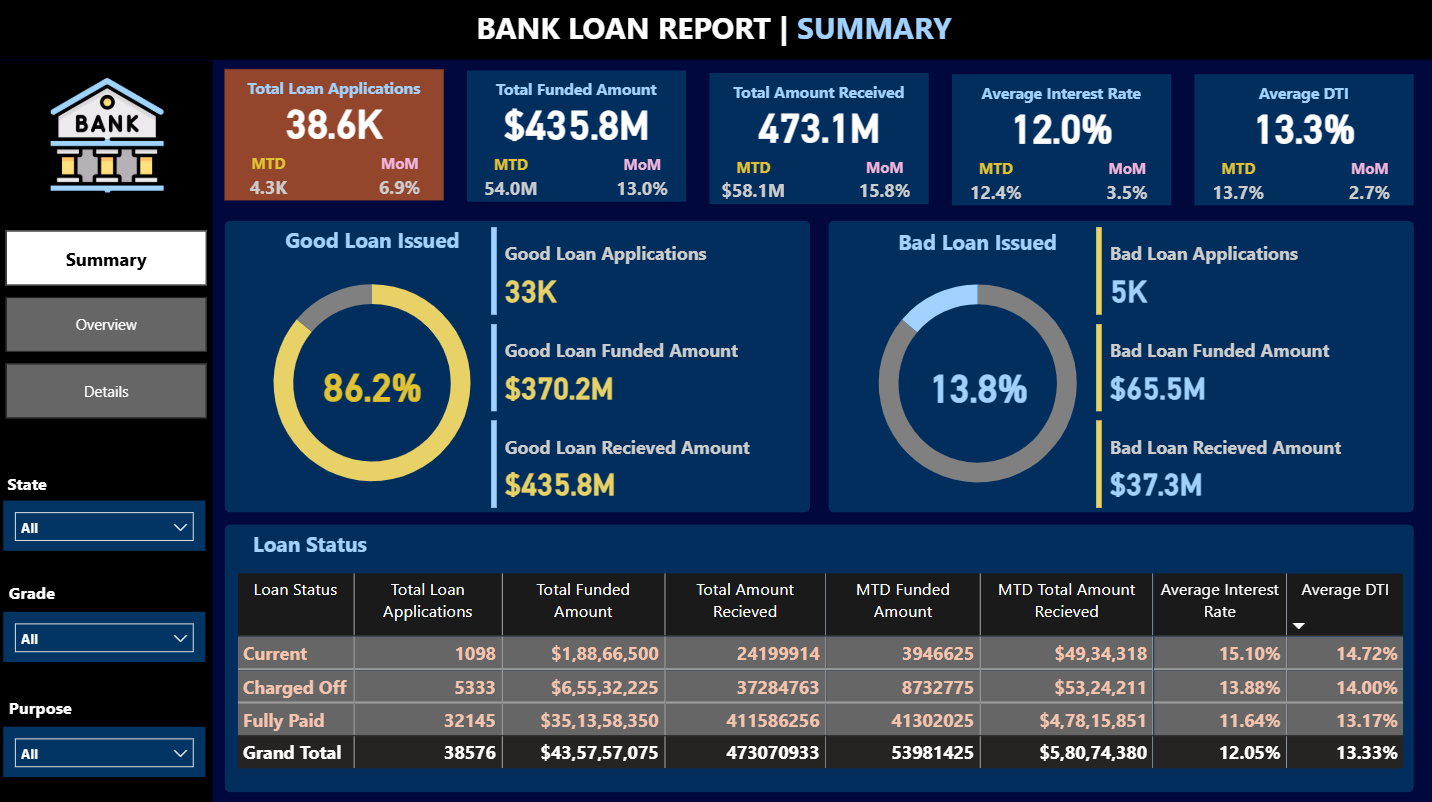

What the dashboard file says about the page in this screenshot:
{"tool":"powerbi","page":{"name":"Summary","canvas":[1280,720],"ordinal":0},"visuals":[{"type":"shape","box":[0,55.5,192,664.7],"z":0},{"type":"shape","box":[202.7,63.9,195.4,117],"z":0,"group":"g1"},{"type":"shape","box":[419.1,64.1,195.4,117],"z":0,"group":"g2"},{"type":"shape","box":[634.8,66.6,195.4,117],"z":0,"group":"g3"},{"type":"shape","box":[850.5,67.9,195.4,117],"z":0,"group":"g4"},{"type":"shape","box":[1066.2,67.9,195.4,117],"z":0,"group":"g5"},{"type":"shape","box":[0,0,1280,55],"z":1000},{"type":"card","fields":{"Values":["bank_loan_data.Total Loan Applications"]},"box":[202.7,88,195.4,43.4],"z":1000,"group":"g1"},{"type":"card","fields":{"Values":["bank_loan_data.Total Funded Amount"]},"box":[419.1,88.2,195.4,43.4],"z":1000,"group":"g2"},{"type":"card","fields":{"Values":["bank_loan_data.Total Amount Recieved"]},"box":[634.8,90.7,195.4,43.4],"z":1000,"group":"g3"},{"type":"card","fields":{"Values":["bank_loan_data.Average Interest Rate"]},"box":[850.5,92,195.4,43.4],"z":1000,"group":"g4"},{"type":"card","fields":{"Values":["bank_loan_data.Average DTI"]},"box":[1066.2,92,195.4,43.4],"z":1000,"group":"g5"},{"type":"textbox","box":[208.7,66.3,183.4,31.4],"z":2000,"group":"g1"},{"type":"textbox","box":[425.1,66.5,183.4,31.4],"z":2000,"group":"g2"},{"type":"textbox","box":[640.8,69,183.4,31.4],"z":2000,"group":"g3"},{"type":"textbox","box":[856.5,70.3,183.4,31.4],"z":2000,"group":"g4"},{"type":"textbox","box":[1072.2,70.3,183.4,31.4],"z":2000,"group":"g5"},{"type":"shape","box":[202.5,198.6,521.6,260.2],"z":2000},{"type":"card","title":"MTD","fields":{"Values":["bank_loan_data.MTD Loan Applications"]},"box":[202.7,138.7,78.4,47.1],"z":3000,"group":"g1"},{"type":"card","title":"MTD","fields":{"Values":["bank_loan_data.MTD Funded Amount"]},"box":[419.1,138.9,78.4,47.1],"z":3000,"group":"g2"},{"type":"card","title":"MTD","fields":{"Values":["bank_loan_data.MTD Total Amount Recieved"]},"box":[634.8,141.4,78.4,47.1],"z":3000,"group":"g3"},{"type":"card","title":"MTD","fields":{"Values":["bank_loan_data.MTD Average Int. Rate"]},"box":[850.5,142.7,78.4,47.1],"z":3000,"group":"g4"},{"type":"card","title":"MTD","fields":{"Values":["bank_loan_data.MTD Average DTI"]},"box":[1066.2,142.7,78.4,47.1],"z":3000,"group":"g5"},{"type":"card","fields":{"Values":["bank_loan_data.Good Loan %"]},"box":[279.4,322.9,110.2,43.6],"z":3000},{"type":"card","title":"MoM","fields":{"Values":["bank_loan_data.MoM Loan Applications"]},"box":[319.7,138.7,78.4,47.1],"z":4000,"group":"g1"},{"type":"card","title":"MoM","fields":{"Values":["bank_loan_data.MoM Total Funded Amount"]},"box":[536.1,138.9,78.4,47.1],"z":4000,"group":"g2"},{"type":"card","title":"MoM","fields":{"Values":["bank_loan_data.MoM Total Recieved Amount"]},"box":[751.8,141.4,78.4,47.1],"z":4000,"group":"g3"},{"type":"card","title":"MoM","fields":{"Values":["bank_loan_data.MoM Avg Int. Rate"]},"box":[967.5,142.7,78.4,47.1],"z":4000,"group":"g4"},{"type":"card","title":"MoM","fields":{"Values":["bank_loan_data.MoM Average DTI"]},"box":[1183.2,142.7,78.4,47.1],"z":4000,"group":"g5"},{"type":"textbox","box":[242.2,198.6,183.3,39.7],"z":4000},{"type":"textbox","box":[422.3,3.6,437.9,48.3],"z":5000},{"type":"group","id":"g1","title":"Group 2","box":[202.7,63.9,195.4,121.9],"z":5004,"group":"g6"},{"type":"group","id":"g2","title":"Group 2","box":[419.1,64.1,195.4,121.9],"z":5004,"group":"g7"},{"type":"group","id":"g3","title":"Group 2","box":[634.8,66.6,195.4,121.9],"z":5004,"group":"g8"},{"type":"group","id":"g4","title":"Group 2","box":[850.5,67.9,195.4,121.9],"z":5004,"group":"g9"},{"type":"group","id":"g5","title":"Group 2","box":[1066.2,67.9,195.4,121.9],"z":5004,"group":"g10"},{"type":"group","id":"g6","title":"Group 1","box":[202.7,63.9,195.4,121.9],"z":6000},{"type":"group","id":"g7","title":"Group 1","box":[419.1,64.1,194.8,121.7],"z":7000},{"type":"donutChart","fields":{"Category":["bank_loan_data.Good vs Bad Loan"],"Y":["bank_loan_data.Total Loan Applications"]},"box":[208.7,228.1,249.8,229.3],"z":8000},{"type":"group","id":"g8","title":"Group 1","box":[634.8,66.6,194.8,121.7],"z":9000},{"type":"group","id":"g9","title":"Group 1","box":[850.5,67.9,194.8,121.7],"z":10000},{"type":"group","id":"g10","title":"Group 1","box":[1066.2,67.9,194.8,121.7],"z":11000},{"type":"shape","box":[740.7,198.6,521.6,260.2],"z":12000},{"type":"cardVisual","fields":{"Data":["bank_loan_data.Good Loan Applications","bank_loan_data.Good Loan Funded Amount","bank_loan_data.Good Loan Recieved Amount"]},"box":[435.6,199.1,288.4,260.6],"z":13000},{"type":"donutChart","fields":{"Category":["bank_loan_data.Good vs Bad Loan"],"Y":["bank_loan_data.Total Loan Applications"]},"box":[748.1,228.1,251,230.5],"z":14000},{"type":"textbox","box":[781.9,199.1,183.4,39.8],"z":15000},{"type":"card","fields":{"Values":["bank_loan_data.Bad Loan %"]},"box":[819.3,323.4,109.8,43.4],"z":16000},{"type":"cardVisual","fields":{"Data":["bank_loan_data.Bad Loan Applications","bank_loan_data.Bad Loan Funded Amount","bank_loan_data.Bad Loan Recieved Amount"]},"box":[973.8,199.1,288.4,260.6],"z":17000},{"type":"shape","box":[202.7,468.1,1059.3,238.9],"z":18000},{"type":"tableEx","fields":{"Values":["bank_loan_data.loan_status","bank_loan_data.Total Loan Applications","bank_loan_data.Total Funded Amount","bank_loan_data.Total Amount Recieved","bank_loan_data.MTD Funded Amount","bank_loan_data.MTD Total Amount Recieved","bank_loan_data.Average Interest Rate","bank_loan_data.Average DTI"]},"box":[208.7,507.9,1053.2,189.4],"z":19000},{"type":"textbox","box":[216,468.1,125.5,39.8],"z":20000},{"type":"slicer","fields":{"Values":["bank_loan_data.address_state"]},"box":[5.1,447.6,179.8,44.6],"z":21000},{"type":"textbox","box":[4.8,417.7,56.7,32.6],"z":22000},{"type":"slicer","fields":{"Values":["bank_loan_data.grade"]},"box":[5.3,546.5,179.8,44.6],"z":23000},{"type":"textbox","box":[5.3,513.9,65.1,32.6],"z":24000},{"type":"textbox","box":[5.1,616.5,78.4,32.6],"z":25000},{"type":"slicer","fields":{"Values":["bank_loan_data.purpose"]},"box":[5.1,649.1,179.8,44.6],"z":26000},{"type":"image","box":[39.8,63.9,115.8,115.8],"z":27000},{"type":"pageNavigator","box":[7.2,207.5,179.8,168.9],"z":28000}]}

Visuals, with their boxes in screenshot pixels (x1, y1, x2, y2), scaled from the page's 1280x720 canvas onto the 1432x802 screenshot:
shape: x1=0 y1=62 x2=215 y2=801
shape: x1=227 y1=71 x2=445 y2=202
shape: x1=469 y1=71 x2=687 y2=202
shape: x1=710 y1=74 x2=929 y2=205
shape: x1=951 y1=76 x2=1170 y2=206
shape: x1=1193 y1=76 x2=1411 y2=206
shape: x1=0 y1=0 x2=1431 y2=61
card - bank_loan_data.Total Loan Applications: x1=227 y1=98 x2=445 y2=146
card - bank_loan_data.Total Funded Amount: x1=469 y1=98 x2=687 y2=147
card - bank_loan_data.Total Amount Recieved: x1=710 y1=101 x2=929 y2=149
card - bank_loan_data.Average Interest Rate: x1=951 y1=102 x2=1170 y2=151
card - bank_loan_data.Average DTI: x1=1193 y1=102 x2=1411 y2=151
textbox: x1=233 y1=74 x2=439 y2=109
textbox: x1=476 y1=74 x2=681 y2=109
textbox: x1=717 y1=77 x2=922 y2=112
textbox: x1=958 y1=78 x2=1163 y2=113
textbox: x1=1200 y1=78 x2=1405 y2=113
shape: x1=227 y1=221 x2=810 y2=511
"MTD" card: x1=227 y1=154 x2=314 y2=207
"MTD" card: x1=469 y1=155 x2=557 y2=207
"MTD" card: x1=710 y1=158 x2=798 y2=210
"MTD" card: x1=951 y1=159 x2=1039 y2=211
"MTD" card: x1=1193 y1=159 x2=1281 y2=211
card - bank_loan_data.Good Loan %: x1=313 y1=360 x2=436 y2=408
"MoM" card: x1=358 y1=154 x2=445 y2=207
"MoM" card: x1=600 y1=155 x2=687 y2=207
"MoM" card: x1=841 y1=158 x2=929 y2=210
"MoM" card: x1=1082 y1=159 x2=1170 y2=211
"MoM" card: x1=1324 y1=159 x2=1411 y2=211
textbox: x1=271 y1=221 x2=476 y2=265
textbox: x1=472 y1=4 x2=962 y2=58
"Group 2" group: x1=227 y1=71 x2=445 y2=207
"Group 2" group: x1=469 y1=71 x2=687 y2=207
"Group 2" group: x1=710 y1=74 x2=929 y2=210
"Group 2" group: x1=951 y1=76 x2=1170 y2=211
"Group 2" group: x1=1193 y1=76 x2=1411 y2=211
"Group 1" group: x1=227 y1=71 x2=445 y2=207
"Group 1" group: x1=469 y1=71 x2=687 y2=207
donutChart - bank_loan_data.Good vs Bad Loan x bank_loan_data.Total Loan Applications: x1=233 y1=254 x2=513 y2=509
"Group 1" group: x1=710 y1=74 x2=928 y2=210
"Group 1" group: x1=951 y1=76 x2=1169 y2=211
"Group 1" group: x1=1193 y1=76 x2=1411 y2=211
shape: x1=829 y1=221 x2=1412 y2=511
cardVisual - bank_loan_data.Good Loan Applications x bank_loan_data.Good Loan Funded Amount: x1=487 y1=222 x2=810 y2=512
donutChart - bank_loan_data.Good vs Bad Loan x bank_loan_data.Total Loan Applications: x1=837 y1=254 x2=1118 y2=511
textbox: x1=875 y1=222 x2=1080 y2=266
card - bank_loan_data.Bad Loan %: x1=917 y1=360 x2=1039 y2=409
cardVisual - bank_loan_data.Bad Loan Applications x bank_loan_data.Bad Loan Funded Amount: x1=1089 y1=222 x2=1412 y2=512
shape: x1=227 y1=521 x2=1412 y2=788
tableEx - bank_loan_data.loan_status x bank_loan_data.Total Loan Applications: x1=233 y1=566 x2=1412 y2=777
textbox: x1=242 y1=521 x2=382 y2=566
slicer - bank_loan_data.address_state: x1=6 y1=499 x2=207 y2=548
textbox: x1=5 y1=465 x2=69 y2=502
slicer - bank_loan_data.grade: x1=6 y1=609 x2=207 y2=658
textbox: x1=6 y1=572 x2=79 y2=609
textbox: x1=6 y1=687 x2=93 y2=723
slicer - bank_loan_data.purpose: x1=6 y1=723 x2=207 y2=773
image: x1=45 y1=71 x2=174 y2=200
pageNavigator: x1=8 y1=231 x2=209 y2=419
